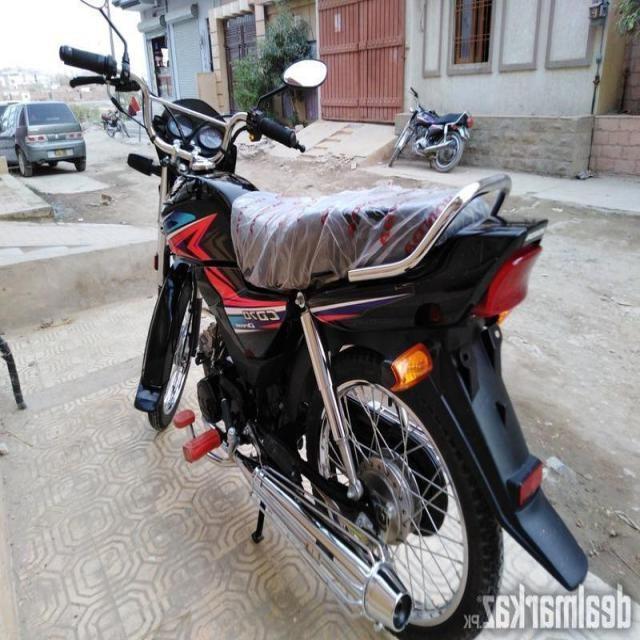motorcycle: (85, 12, 620, 622)
